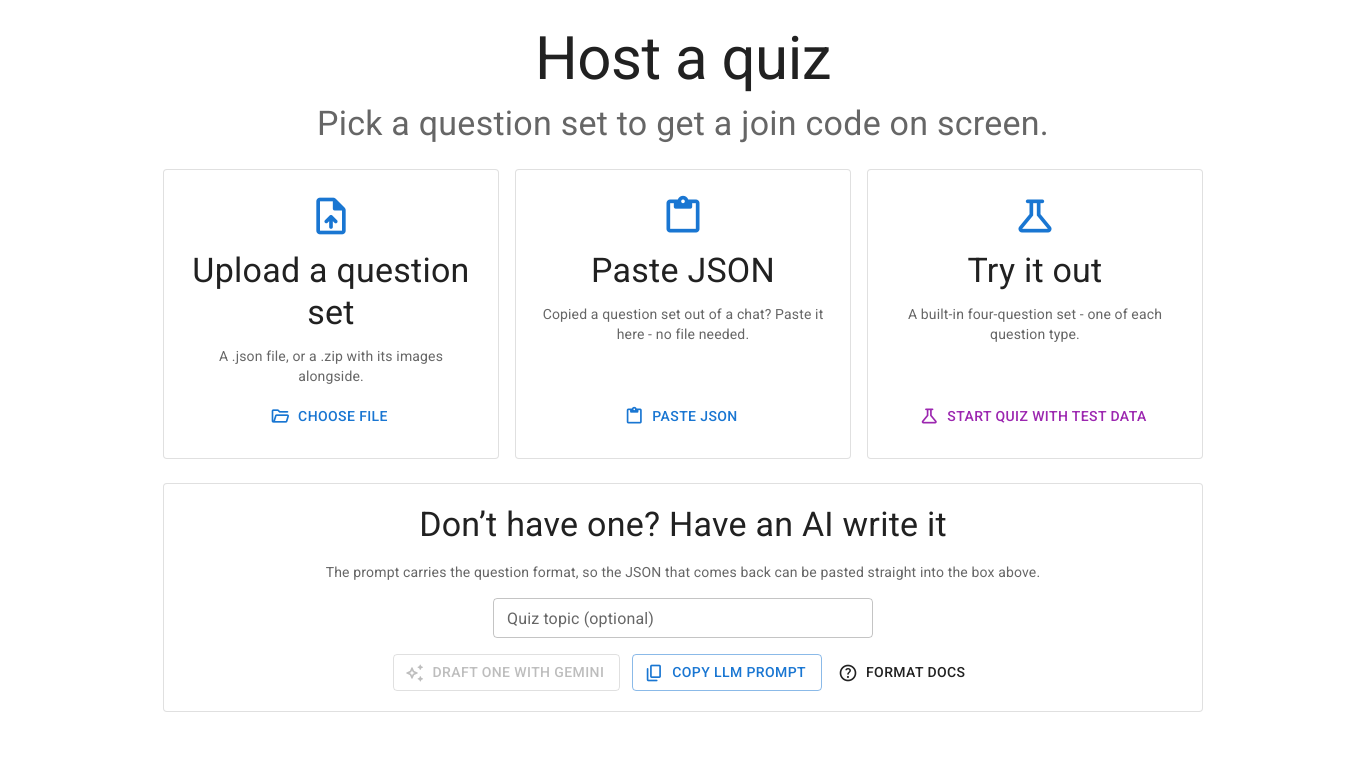
Test case: AdminView › shows an error if the session can't be created
Click the button "Start quiz with test data": [1035, 416] box [915, 398, 1155, 434]
(page scrolled)
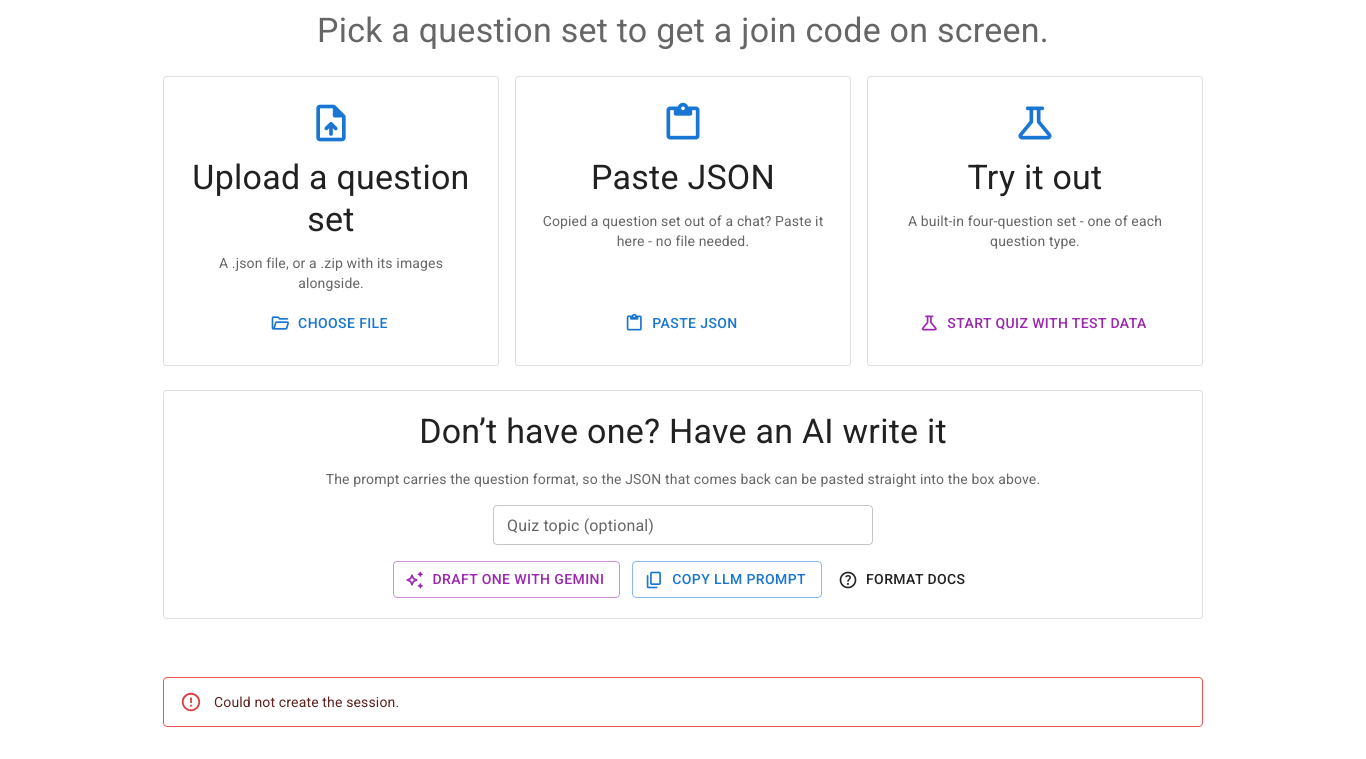
Now the text "Could not create the session." is shown, box [214, 694, 399, 710]
